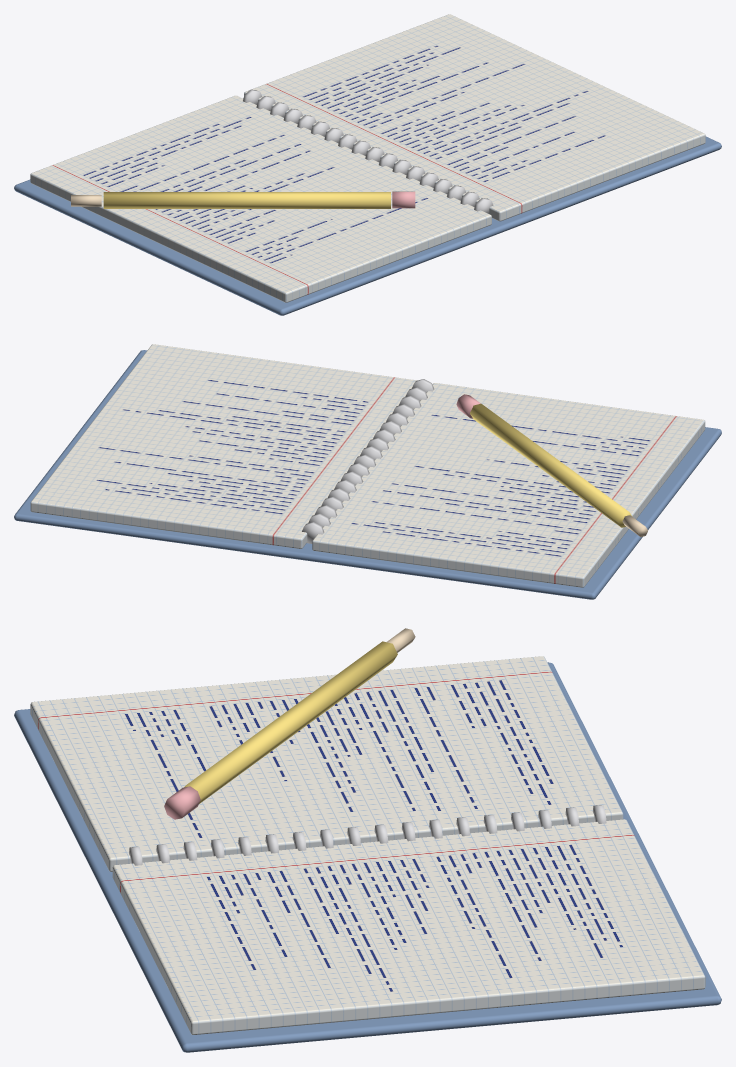
Rendered from escena.casa.cuaderno_apuntes.fbx.
3 renders of one model, top to bottom at view 1: azimuth 30°, elevation 25°; view 2: azimuth 150°, elevation 25°; view 3: azimuth 270°, elevation 25°, orthographic. The views are drawn at different scales.
Visible parts, largest first — view 1: Hojas izquierdas, Hojas derechas, Tapa, Lapiz; view 2: Hojas izquierdas, Hojas derechas, Tapa, Lapiz; view 3: Hojas izquierdas, Hojas derechas, Tapa, Lapiz, Goma del lapiz.
Part boxes in pixels (x1,y1,x2,y2): Hojas izquierdas: (244,14,705,221); Hojas derechas: (30,95,491,302); Tapa: (14,136,721,315); Lapiz: (103,192,390,208); Hojas izquierdas: (30,344,417,548); Hojas derechas: (312,383,705,587); Tapa: (14,350,721,599); Lapiz: (470,403,632,527); Hojas izquierdas: (112,819,705,1034); Hojas derechas: (30,656,623,871); Tapa: (14,662,721,1052); Lapiz: (184,641,397,803); Goma del lapiz: (164,786,200,819).
Size of the model in its own units: 0.3461 by 0.0206 by 0.269.
Materials: 7 (2 with a texture image).
